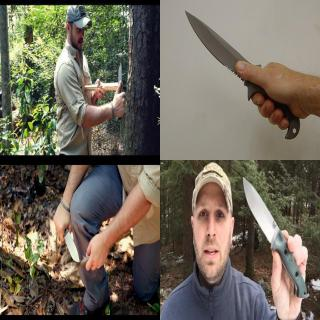knife: (183, 7, 287, 129), (241, 174, 295, 278), (52, 215, 80, 263), (114, 60, 126, 114)
